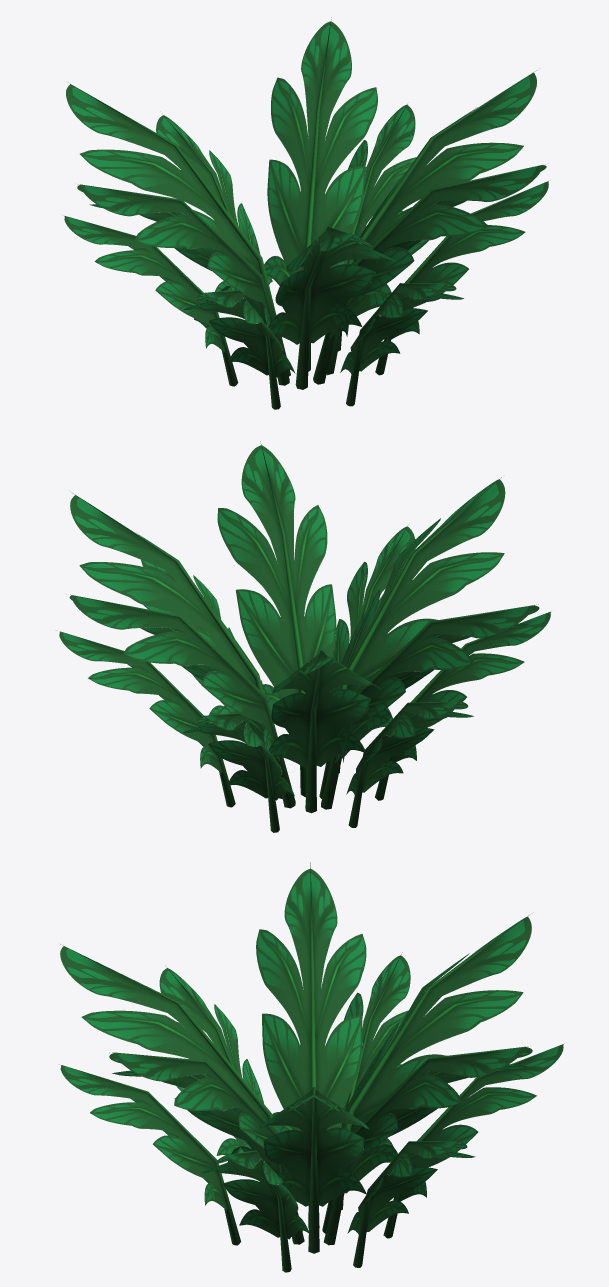
File: Bush_03.FBX
The picture shows the model from 3 angles, top to bottom: view 1: azimuth 30°, elevation 25°; view 2: azimuth 150°, elevation 25°; view 3: azimuth 270°, elevation 25°; orthographic projection. The views are drawn at different scales.
Parts seen in each view (by area): view 1: Bush_03; view 2: Bush_03; view 3: Bush_03.
Part boxes in pixels (x1,y1,x2,y2): Bush_03: (64,17,548,409); Bush_03: (59,441,550,832); Bush_03: (60,862,564,1272).
Bounding box in the file's own units: 55.96 × 27.13 × 54.32.
1 material, 1 textured.
